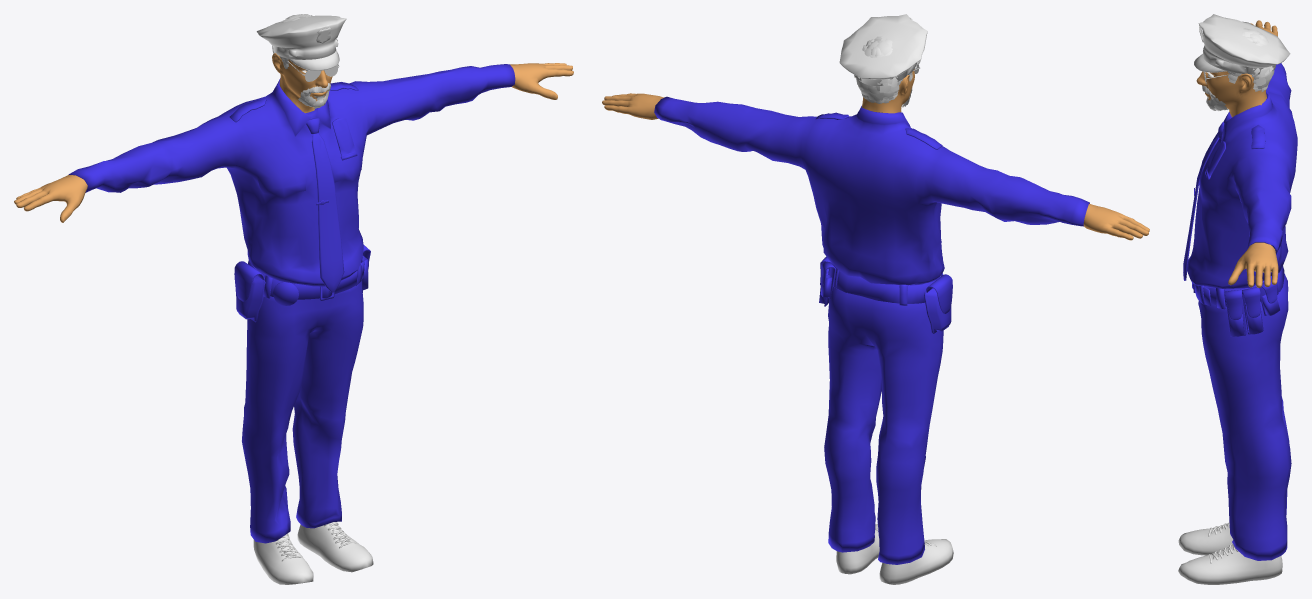
The model's file is Policeman.fbx.
The picture shows the model from 3 angles, left to right: view 1: azimuth 30°, elevation 25°; view 2: azimuth 150°, elevation 25°; view 3: azimuth 270°, elevation 25°; orthographic projection. The views are drawn at different scales.
Visible parts, largest first — view 1: Object_24, Object_20, Object_7, Object_19, Object_22; view 2: Object_24, Object_20, Object_22, Object_7, Object_19, Object_15; view 3: Object_20, Object_24, Object_19, Object_22, Object_7, Object_15, Object_17.
Boxes of the visible parts, <box> form: Object_24: <box>68,64,515,292</box>; Object_20: <box>234,244,370,543</box>; Object_7: <box>14,53,573,222</box>; Object_19: <box>253,522,373,584</box>; Object_22: <box>256,15,346,70</box>; Object_24: <box>654,96,1089,284</box>; Object_20: <box>819,256,952,564</box>; Object_22: <box>839,14,927,85</box>; Object_7: <box>602,69,1149,240</box>; Object_19: <box>836,524,953,584</box>; Object_15: <box>854,36,912,103</box>; Object_20: <box>1192,266,1291,560</box>; Object_24: <box>1183,63,1297,288</box>; Object_19: <box>1178,522,1282,584</box>; Object_22: <box>1194,14,1290,74</box>; Object_7: <box>1196,20,1278,287</box>; Object_15: <box>1227,28,1274,92</box>; Object_17: <box>1206,96,1229,111</box>.
Bounding box in the file's own units: 19407 × 18264 × 3667.
